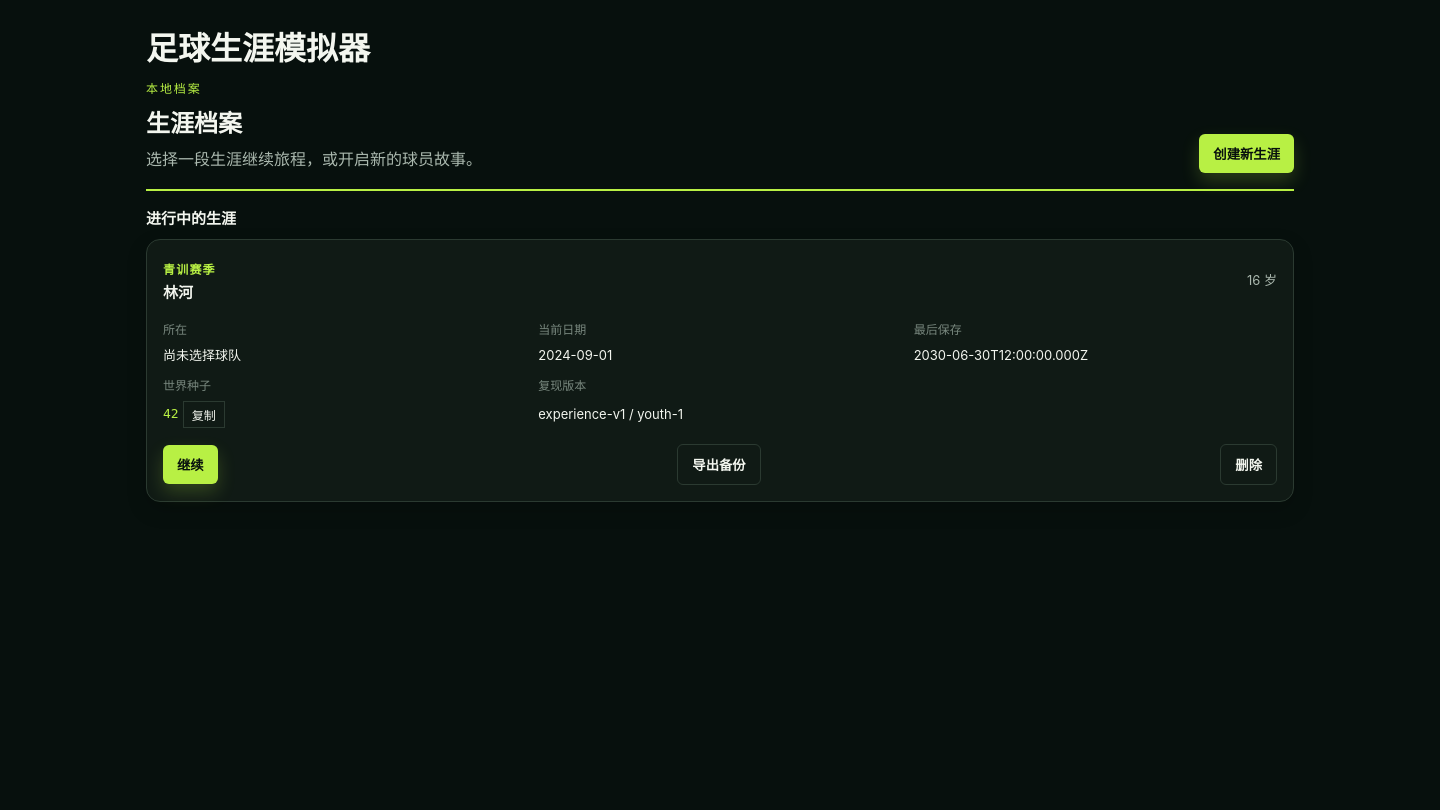
Test: App › restores the latest monthly report from a saved career
Click the button with aria-label "继续林河的生涯" at (190, 464), box [163, 444, 218, 484]
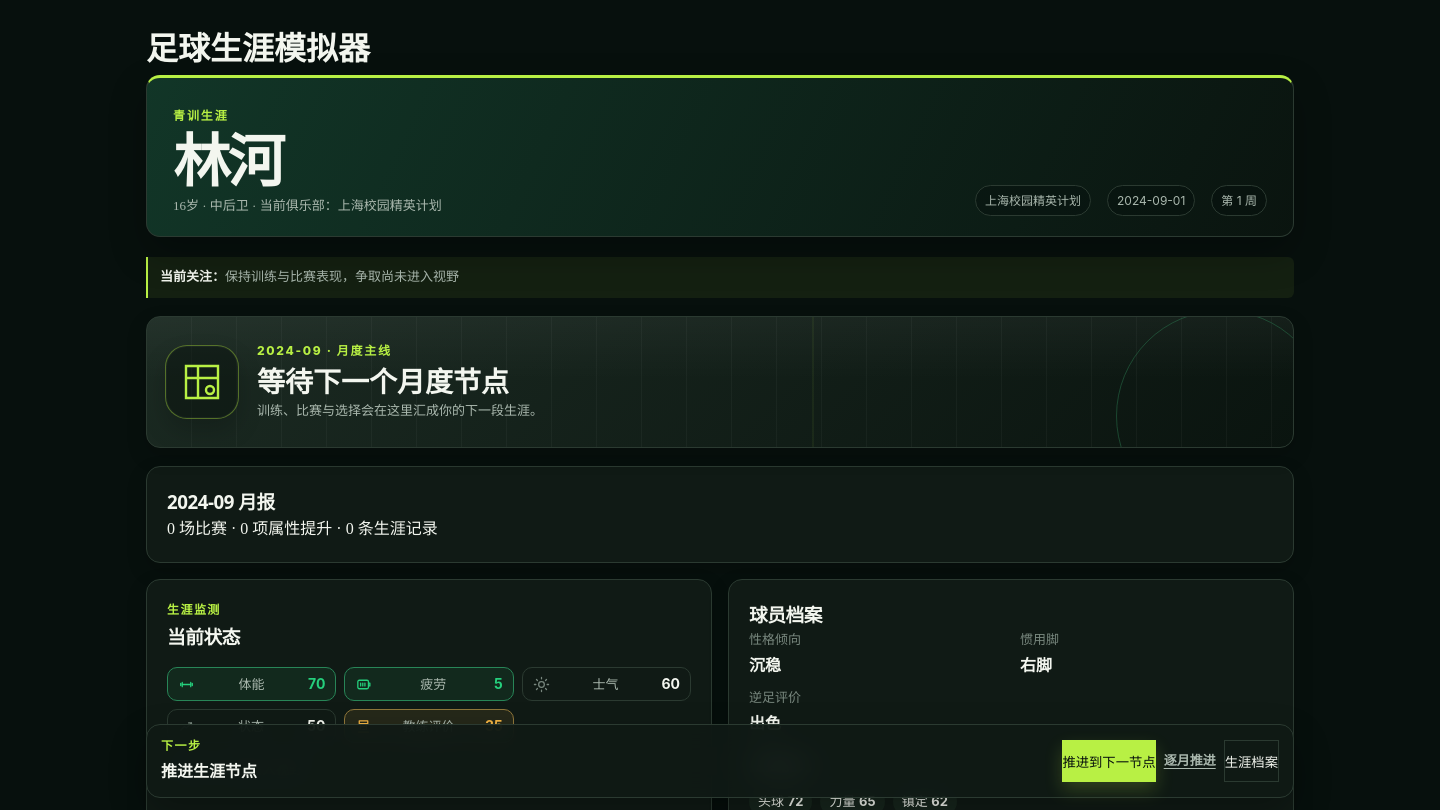
Result: the element "月报" is shown at [146, 466, 1294, 563]
Result: the heading "2024-09 月报" is shown at [167, 488, 275, 514]
